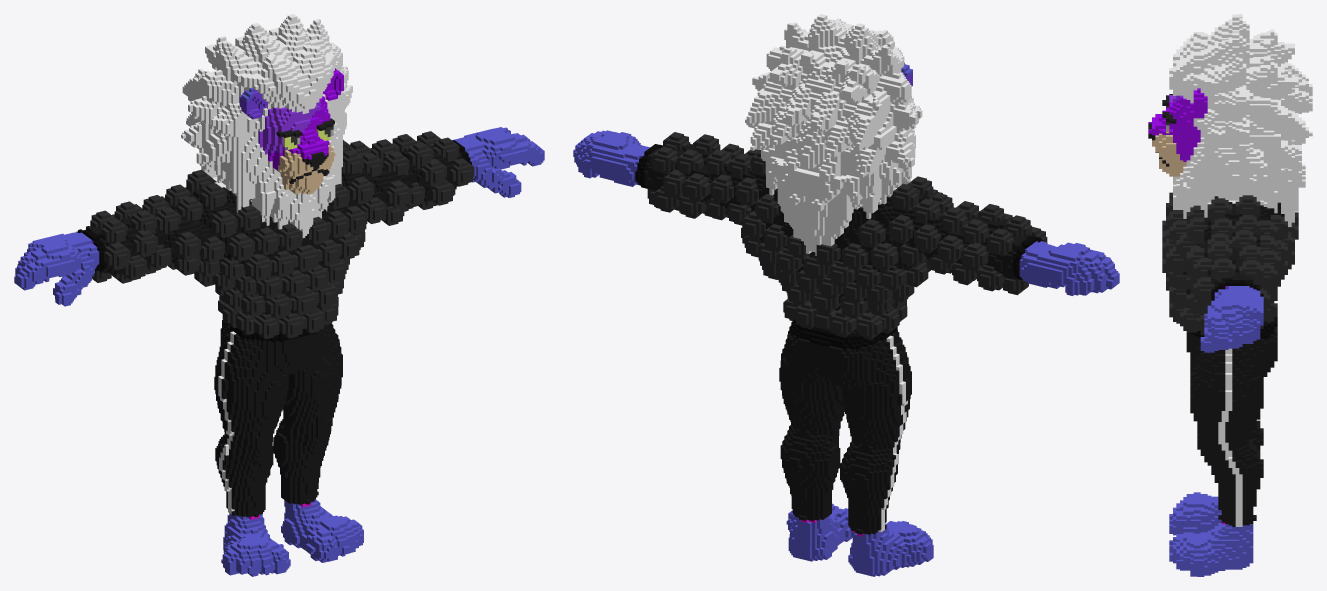
The picture shows the model from 3 angles, left to right: view 1: azimuth 30°, elevation 25°; view 2: azimuth 150°, elevation 25°; view 3: azimuth 270°, elevation 25°; orthographic projection. The views are drawn at different scales.
Visible parts, largest first — view 1: sad; view 2: sad; view 3: sad.
Boxes of the visible parts, x1=… form: sad: x1=14, y1=14, x2=544, y2=576; sad: x1=573, y1=14, x2=1119, y2=576; sad: x1=1148, y1=14, x2=1312, y2=576.
Bounding box in the file's own units: 17.2 × 16.5 × 4.7.
Materials: 5 (5 with a texture image).
